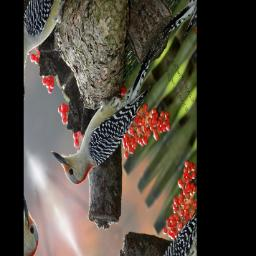Woodpecker: (47, 11, 171, 208)
